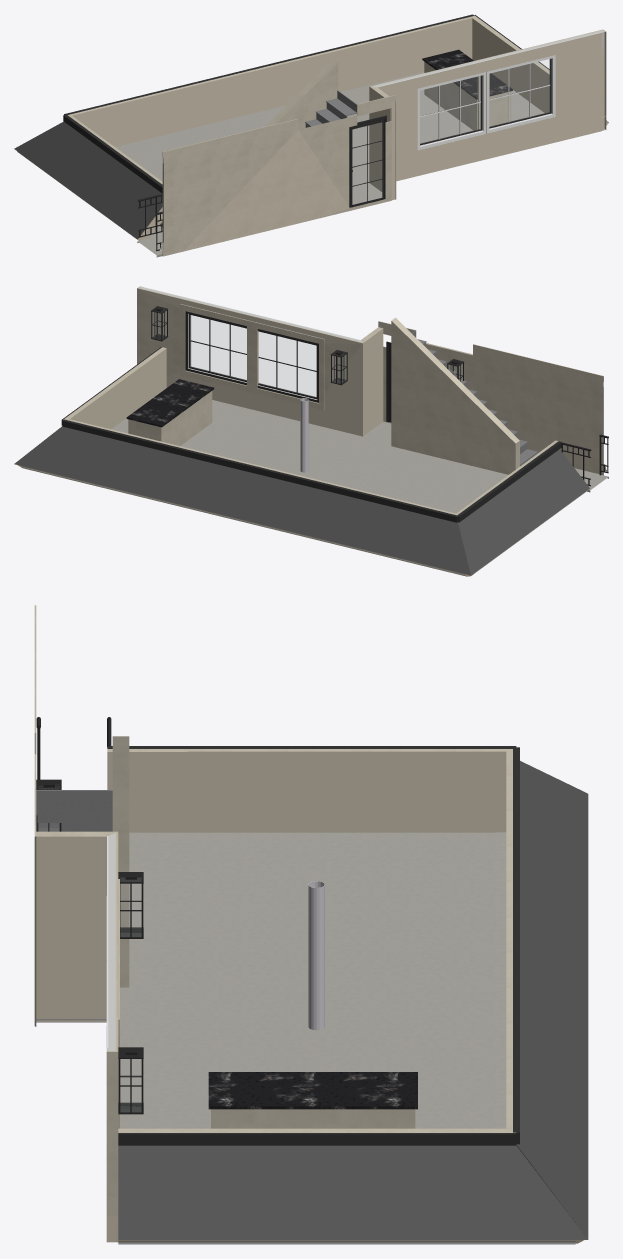
The model's file is rear-deck-ffa278d18c2c.glb.
3 renders of one model, top to bottom at view 1: azimuth 30°, elevation 25°; view 2: azimuth 150°, elevation 25°; view 3: azimuth 270°, elevation 25°, orthographic. The views are drawn at different scales.
Visible parts, largest first — view 1: rear-deck-bd62734a7bc60eb7, rear-deck-32021a86c784f0e0, rear-deck-245f595ae2832e16, rear-deck-ded88bd99590d377, rear-deck-36ed5266b1bc40cd, rear-deck-85ede138eeba504d, rear-deck-cdd3b97a7e9637be, rear-deck-dd55bfb54febbe8b, rear-deck-b5f10ab9081c9955, rear-deck-7511cdbc362aca5e, rear-deck-6b027cd2e6bc0d64, rear-deck-385241de3d752b47 (+5 smaller); view 2: rear-deck-5febae1537653d02, rear-deck-ded88bd99590d377, rear-deck-bd62734a7bc60eb7, rear-deck-7511cdbc362aca5e, rear-deck-245f595ae2832e16, rear-deck-36ed5266b1bc40cd, rear-deck-cdd3b97a7e9637be, rear-deck-85ede138eeba504d, rear-deck-dd55bfb54febbe8b, rear-deck-d7a70b5818f54477, rear-deck-6b027cd2e6bc0d64, rear-deck-b5f10ab9081c9955 (+8 smaller); view 3: rear-deck-ded88bd99590d377, rear-deck-0e7e1de83ff8e24c, rear-deck-18b8f93424e26a44, rear-deck-5febae1537653d02, rear-deck-6b027cd2e6bc0d64, rear-deck-385241de3d752b47, rear-deck-5e5272df00660e4c, rear-deck-b5f10ab9081c9955, rear-deck-245f595ae2832e16, rear-deck-7511cdbc362aca5e, rear-deck-d7a70b5818f54477, rear-deck-32021a86c784f0e0 (+8 smaller).
Part boxes in pixels (x1,y1,x2,y2): rear-deck-bd62734a7bc60eb7: (162,95,396,256); rear-deck-32021a86c784f0e0: (68,16,472,146); rear-deck-245f595ae2832e16: (369,29,604,181); rear-deck-ded88bd99590d377: (115,71,544,253); rear-deck-36ed5266b1bc40cd: (14,121,162,238); rear-deck-85ede138eeba504d: (417,72,486,150); rear-deck-cdd3b97a7e9637be: (487,55,555,133); rear-deck-dd55bfb54febbe8b: (472,15,549,112); rear-deck-b5f10ab9081c9955: (424,61,511,130); rear-deck-7511cdbc362aca5e: (266,59,338,129); rear-deck-6b027cd2e6bc0d64: (369,86,395,200); rear-deck-385241de3d752b47: (422,49,512,99); rear-deck-5febae1537653d02: (14,426,470,575); rear-deck-ded88bd99590d377: (111,400,602,513); rear-deck-bd62734a7bc60eb7: (378,321,603,475); rear-deck-7511cdbc362aca5e: (391,317,519,474); rear-deck-245f595ae2832e16: (137,287,363,436); rear-deck-36ed5266b1bc40cd: (458,449,589,575); rear-deck-cdd3b97a7e9637be: (185,311,246,385); rear-deck-85ede138eeba504d: (257,329,318,402); rear-deck-dd55bfb54febbe8b: (63,347,166,429); rear-deck-d7a70b5818f54477: (62,419,457,522); rear-deck-6b027cd2e6bc0d64: (361,327,383,435); rear-deck-b5f10ab9081c9955: (128,391,212,445); rear-deck-ded88bd99590d377: (36,832,506,1128); rear-deck-0e7e1de83ff8e24c: (118,1145,587,1239); rear-deck-18b8f93424e26a44: (107,749,511,832); rear-deck-5febae1537653d02: (516,761,588,1239); rear-deck-6b027cd2e6bc0d64: (36,831,117,1018); rear-deck-385241de3d752b47: (208,1072,417,1109); rear-deck-5e5272df00660e4c: (118,1133,516,1145); rear-deck-b5f10ab9081c9955: (211,1109,415,1128); rear-deck-245f595ae2832e16: (107,832,118,1242); rear-deck-7511cdbc362aca5e: (112,736,129,987); rear-deck-d7a70b5818f54477: (513,747,519,1144); rear-deck-32021a86c784f0e0: (506,749,512,1131).
Size of the model in its own units: 12.61 by 3.37 by 6.62.
23 materials, 5 textured.
